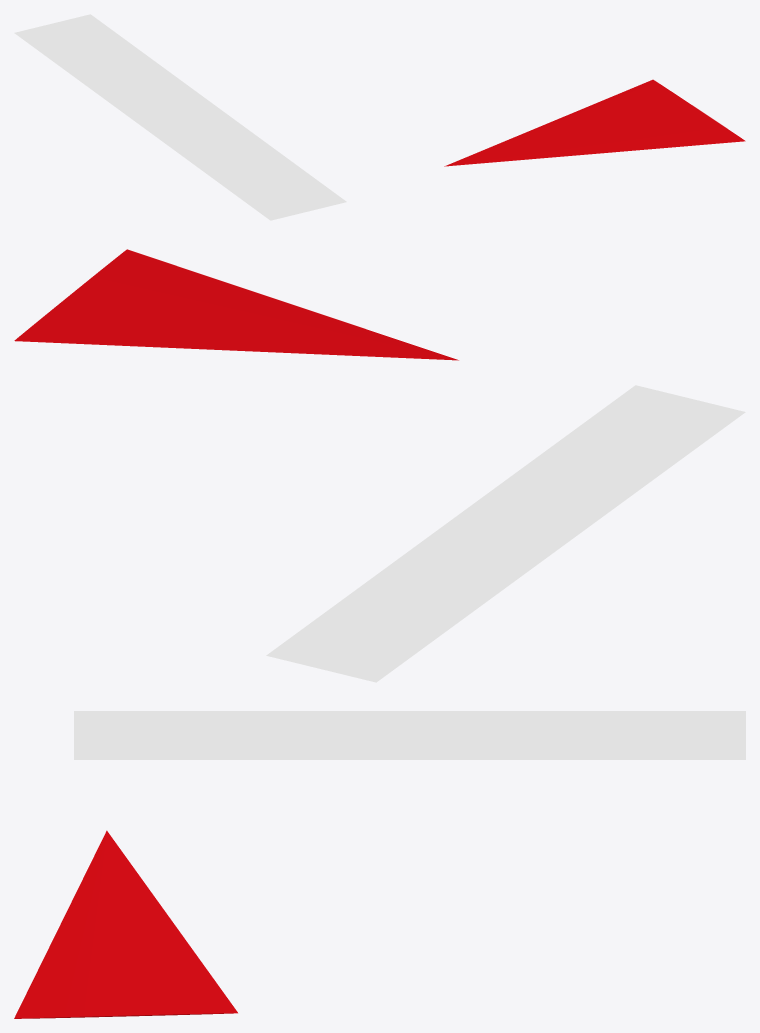
File: hungaroring.glb
The picture shows the model from 3 angles, top to bottom: view 1: azimuth 30°, elevation 25°; view 2: azimuth 150°, elevation 25°; view 3: azimuth 270°, elevation 25°; orthographic projection. The views are drawn at different scales.
Visible parts, largest first — view 1: Plane.001, Cone; view 2: Plane.001, Cone; view 3: Plane.001, Cone.
Boxes of the visible parts, x1,y1,x2,y2 form: Plane.001: [14, 14, 346, 220]; Cone: [444, 79, 745, 166]; Plane.001: [266, 385, 745, 682]; Cone: [14, 249, 458, 360]; Plane.001: [74, 711, 745, 759]; Cone: [14, 830, 237, 1018].
Size of what is drawn, in the model's own units: 1.2 by 0.0363 by 1.29.
